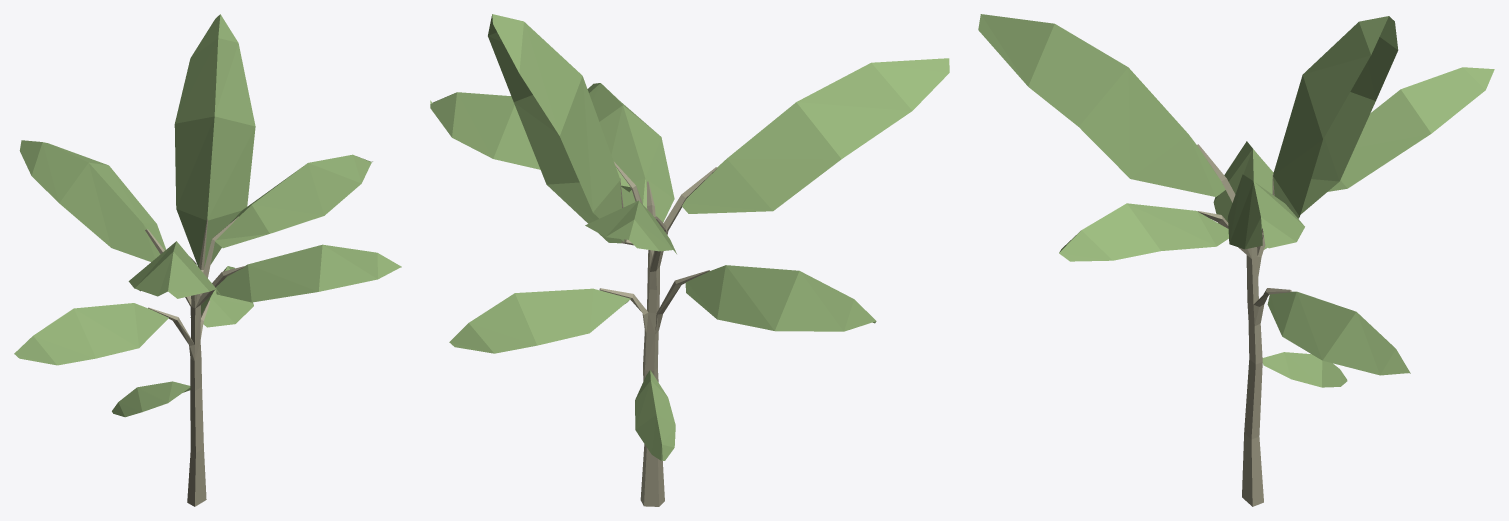
File: MusaAcuminata.glb
3 views of the same model, side by side, from view 1: azimuth 30°, elevation 25°; view 2: azimuth 150°, elevation 25°; view 3: azimuth 270°, elevation 25° (orthographic). The views are drawn at different scales.
Visible parts, largest first — view 1: Crown, Trunk; view 2: Crown, Trunk; view 3: Crown, Trunk.
Part boxes in pixels (box(x1,y1,x2,y2)): Crown: box(14, 14, 401, 417); Trunk: box(145, 216, 244, 506); Crown: box(430, 14, 949, 460); Trunk: box(599, 162, 717, 506); Crown: box(978, 14, 1494, 387); Trunk: box(1197, 144, 1291, 506).
Bounding box in the file's own units: 4.25 × 4.76 × 4.18.
